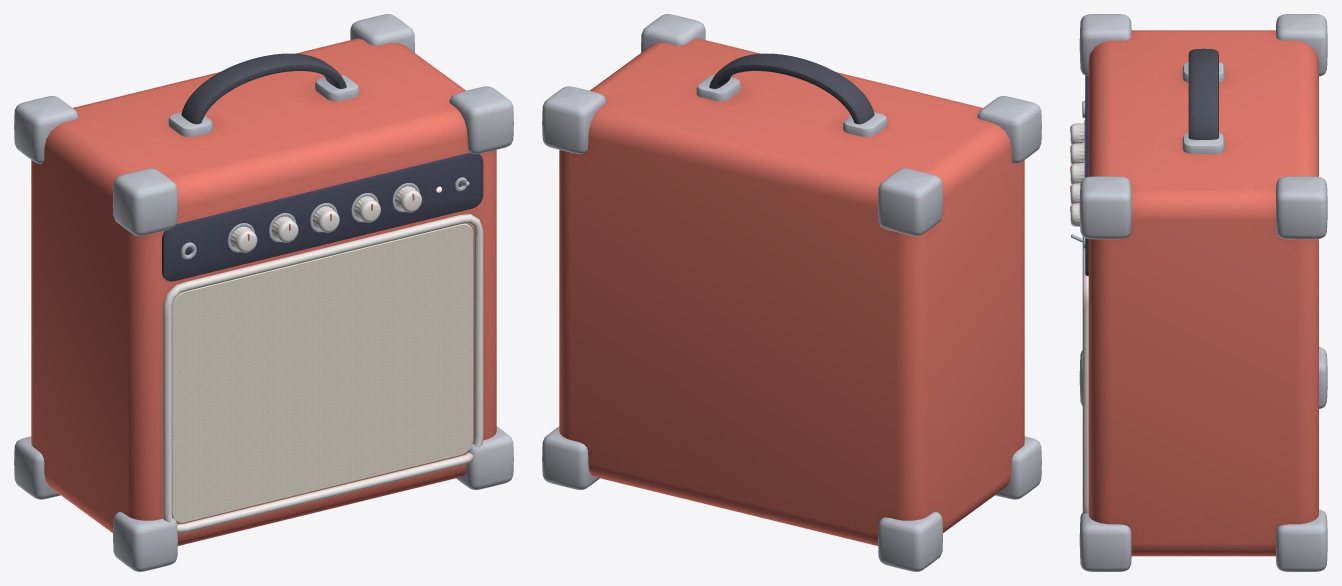
File: amplificador.glb
3 renders of one model, left to right at view 1: azimuth 30°, elevation 25°; view 2: azimuth 150°, elevation 25°; view 3: azimuth 270°, elevation 25°, orthographic.
Parts seen in each view (by area): view 1: guitar-amplifier_body; view 2: guitar-amplifier_body; view 3: guitar-amplifier_body.
Boxes of the visible parts, bbox=[...] form: guitar-amplifier_body: bbox=[14, 14, 513, 571]; guitar-amplifier_body: bbox=[542, 14, 1041, 571]; guitar-amplifier_body: bbox=[1070, 14, 1327, 571].
Size of the model in its own units: 0.417 by 0.4425 by 0.246.
Materials: 3 (2 with a texture image).
